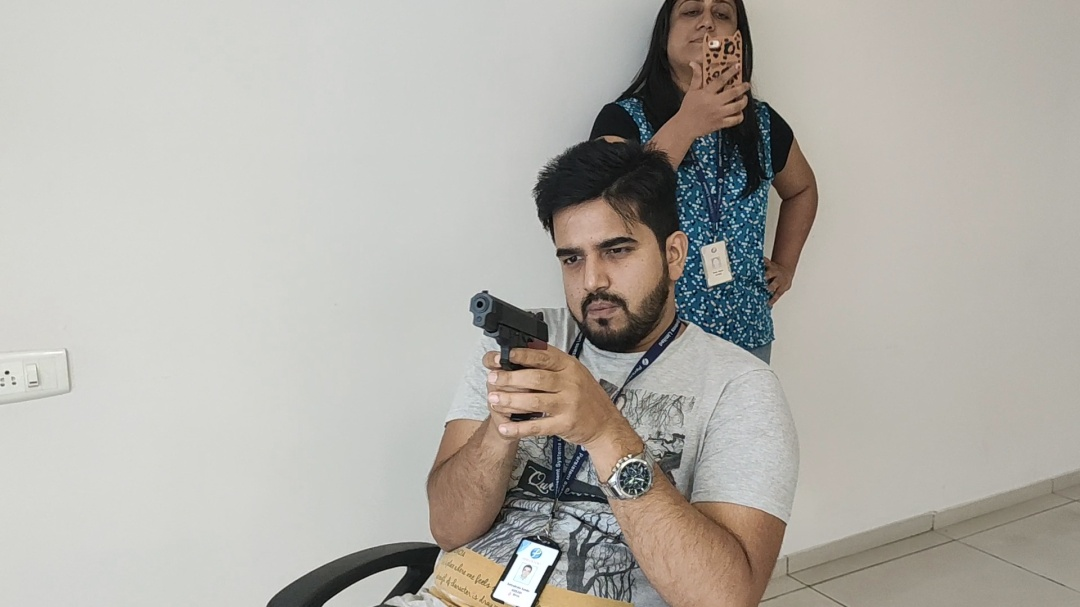gun: (467, 288, 551, 349)
